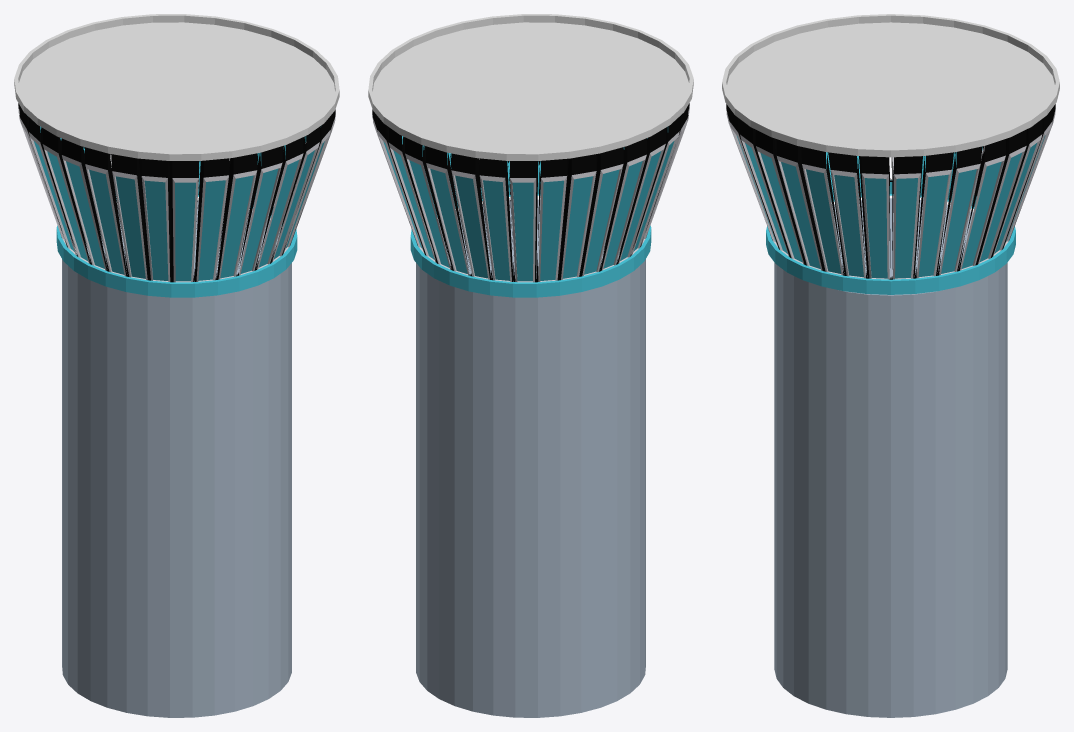
Rendered from atc_air_traffic_control.glb.
3 views of the same model, side by side, from view 1: azimuth 30°, elevation 25°; view 2: azimuth 150°, elevation 25°; view 3: azimuth 270°, elevation 25° (orthographic).
Visible parts, largest first — view 1: ATC Tower_8; view 2: ATC Tower_8; view 3: ATC Tower_8.
Boxes of the visible parts, x1,y1,x2,y2 form: ATC Tower_8: (14,14,339,717); ATC Tower_8: (368,14,693,717); ATC Tower_8: (722,14,1059,717).
Size of the model in its own units: 3.74 by 7.5 by 3.91.
